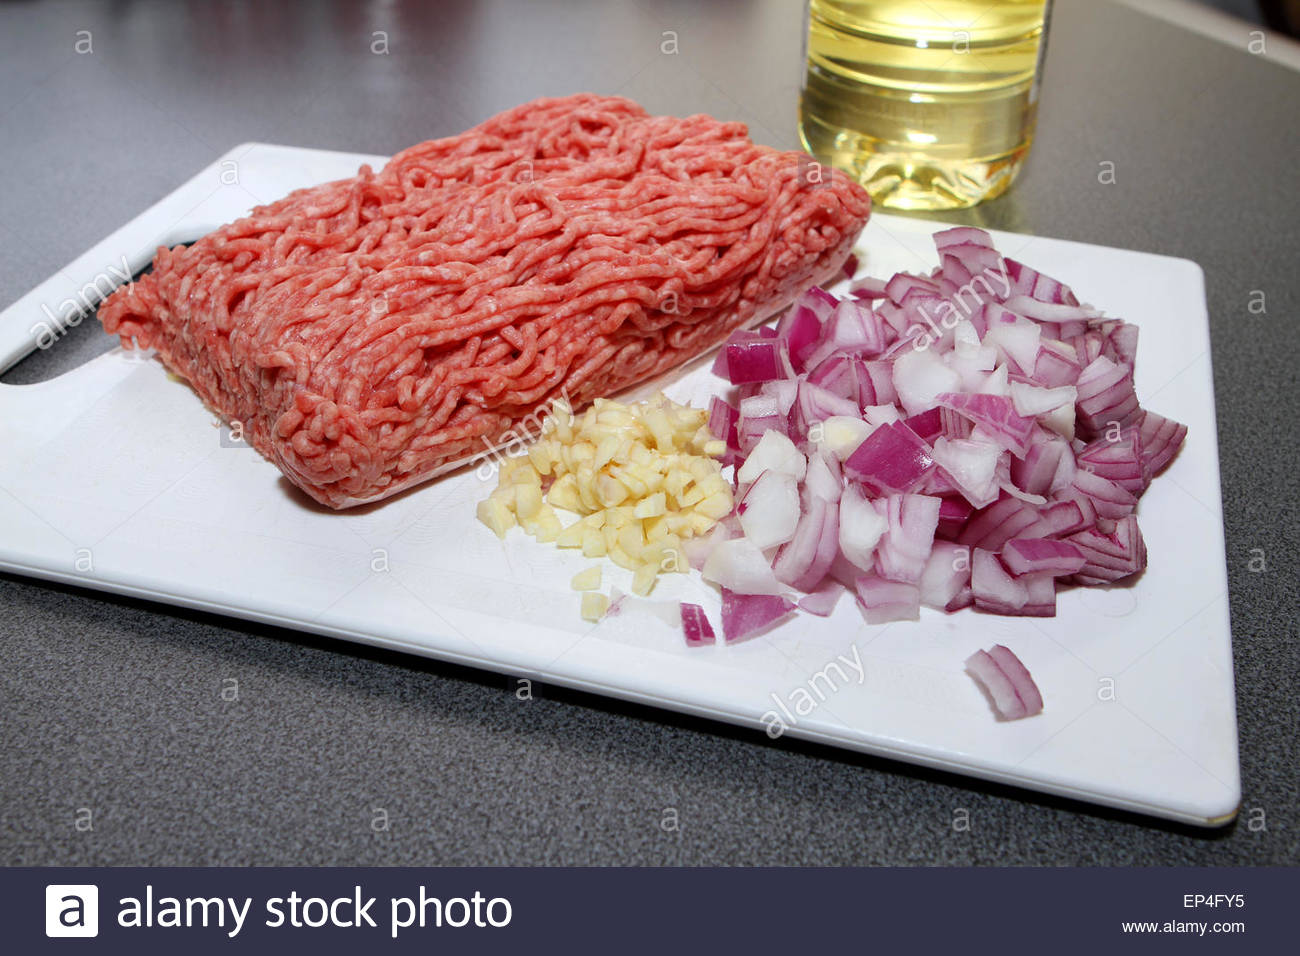ground_beef: (162, 74, 937, 507)
